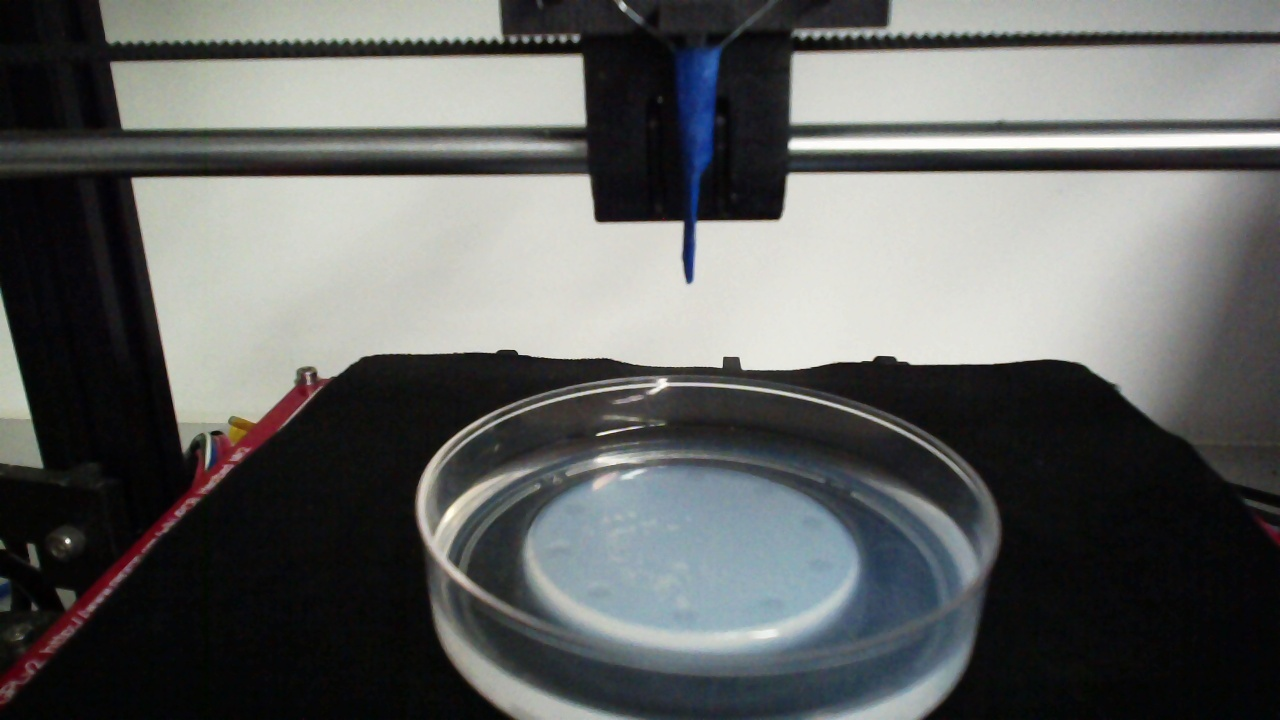groove: (666, 604, 703, 627), (756, 593, 788, 617), (543, 541, 577, 562), (803, 556, 838, 575), (583, 581, 613, 602), (681, 465, 709, 486), (750, 481, 777, 502), (558, 499, 586, 519), (798, 513, 826, 532)
needle: (683, 48, 718, 283)
